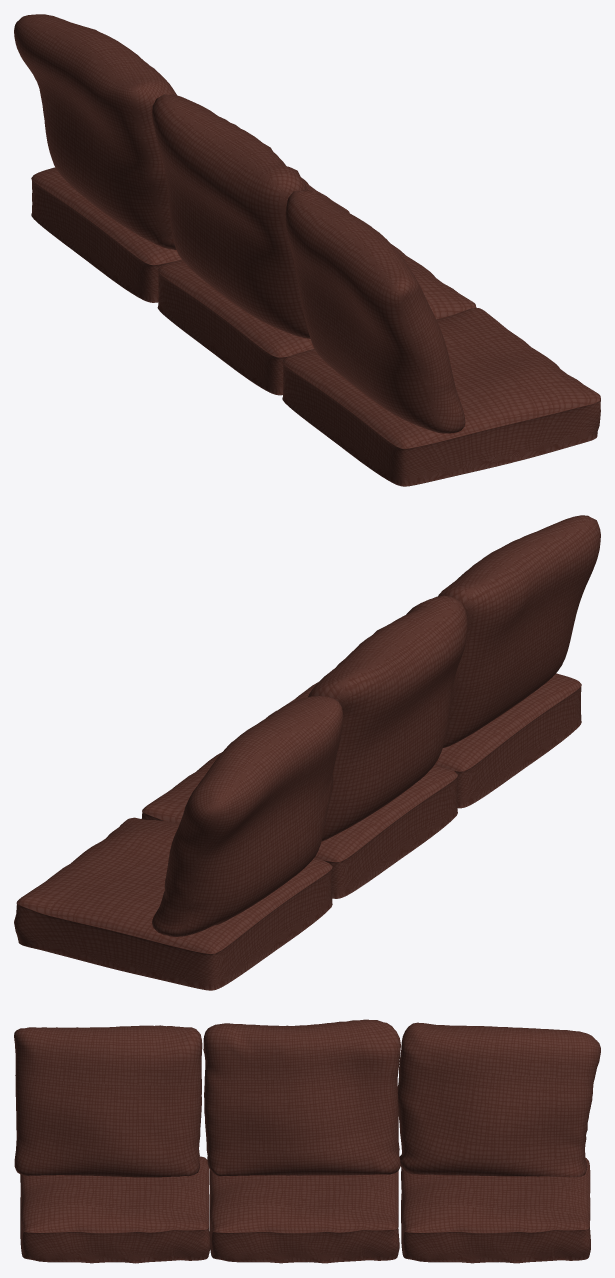
The model's file is livingroom_cushions_big.fbx.
3 views of the same model, one above another, from view 1: azimuth 30°, elevation 25°; view 2: azimuth 150°, elevation 25°; view 3: azimuth 270°, elevation 25° (orthographic). The views are drawn at different scales.
Parts seen in each view (by area): view 1: sofa_03_300x100_cushion_06, sofa_03_300x100_cushion_02, sofa_03_300x100_cushion_03, sofa_03_300x100_cushion_01, sofa_03_300x100_cushion_05, sofa_03_300x100_cushion_04; view 2: sofa_03_300x100_cushion_01, sofa_03_300x100_cushion_04, sofa_03_300x100_cushion_03, sofa_03_300x100_cushion_02, sofa_03_300x100_cushion_05, sofa_03_300x100_cushion_06; view 3: sofa_03_300x100_cushion_03, sofa_03_300x100_cushion_01, sofa_03_300x100_cushion_02, sofa_03_300x100_cushion_06, sofa_03_300x100_cushion_05, sofa_03_300x100_cushion_04.
Boxes of the visible parts, left/top/right/bottom form: sofa_03_300x100_cushion_06: left=282, top=307, right=600, bottom=486; sofa_03_300x100_cushion_02: left=285, top=190, right=465, bottom=433; sofa_03_300x100_cushion_03: left=152, top=94, right=310, bottom=338; sofa_03_300x100_cushion_01: left=14, top=14, right=177, bottom=249; sofa_03_300x100_cushion_05: left=157, top=244, right=476, bottom=395; sofa_03_300x100_cushion_04: left=31, top=167, right=349, bottom=302; sofa_03_300x100_cushion_01: left=152, top=696, right=342, bottom=936; sofa_03_300x100_cushion_04: left=14, top=817, right=332, bottom=990; sofa_03_300x100_cushion_03: left=308, top=595, right=467, bottom=841; sofa_03_300x100_cushion_02: left=438, top=515, right=600, bottom=747; sofa_03_300x100_cushion_05: left=141, top=752, right=457, bottom=898; sofa_03_300x100_cushion_06: left=279, top=673, right=581, bottom=808; sofa_03_300x100_cushion_03: left=203, top=1019, right=400, bottom=1176; sofa_03_300x100_cushion_01: left=397, top=1022, right=600, bottom=1177; sofa_03_300x100_cushion_02: left=14, top=1025, right=202, bottom=1177; sofa_03_300x100_cushion_06: left=20, top=1156, right=210, bottom=1263; sofa_03_300x100_cushion_05: left=209, top=1169, right=399, bottom=1263; sofa_03_300x100_cushion_04: left=401, top=1157, right=590, bottom=1263.
Size of the model in its own units: 91.14 by 85.85 by 270.
